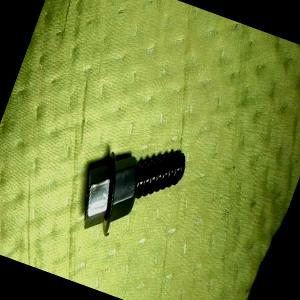parafuso: (70, 125, 191, 255)
